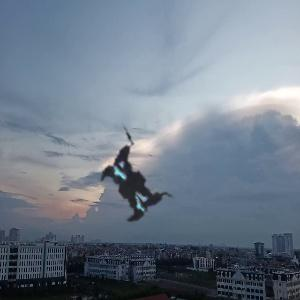drone: (48, 92, 228, 272)
